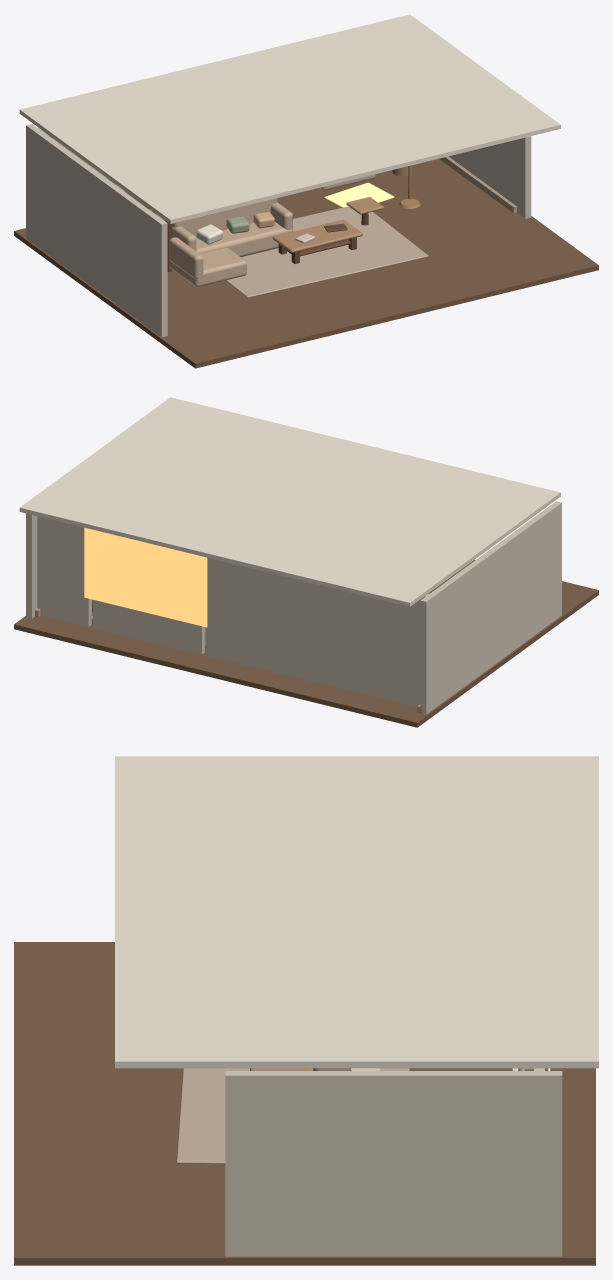
The model's file is warm-lounge-room.desktop.glb.
3 renders of one model, top to bottom at view 1: azimuth 30°, elevation 25°; view 2: azimuth 150°, elevation 25°; view 3: azimuth 270°, elevation 25°, orthographic. The views are drawn at different scales.
Parts seen in each view (by area): view 1: Ceiling, Floor, WallCluster, Rug, SofaCluster, CoffeeTable, SunWash, TrimCluster, CoffeeTableCluster; view 2: Ceiling, WallCluster, Floor, SunPanel; view 3: Ceiling, WallCluster, Floor, Rug.
Boxes of the visible parts, left/top/right/bottom form: Ceiling: left=19, top=14, right=560, bottom=223; Floor: left=14, top=158, right=598, bottom=368; WallCluster: left=26, top=124, right=531, bottom=337; Rug: left=225, top=206, right=428, bottom=297; SofaCluster: left=169, top=174, right=375, bottom=286; CoffeeTable: left=273, top=219, right=362, bottom=252; SunWash: left=324, top=182, right=394, bottom=207; TrimCluster: left=108, top=156, right=516, bottom=213; CoffeeTableCluster: left=278, top=223, right=356, bottom=263; Ceiling: left=19, top=397, right=560, bottom=606; WallCluster: left=26, top=501, right=561, bottom=714; Floor: left=14, top=560, right=598, bottom=727; SunPanel: left=84, top=527, right=207, bottom=627; Ceiling: left=115, top=756, right=598, bottom=1068; WallCluster: left=225, top=1068, right=562, bottom=1256; Floor: left=14, top=942, right=595, bottom=1265; Rug: left=176, top=1068, right=409, bottom=1164.
Bounding box in the file's own units: 12.2 × 3.79 × 9.55.
